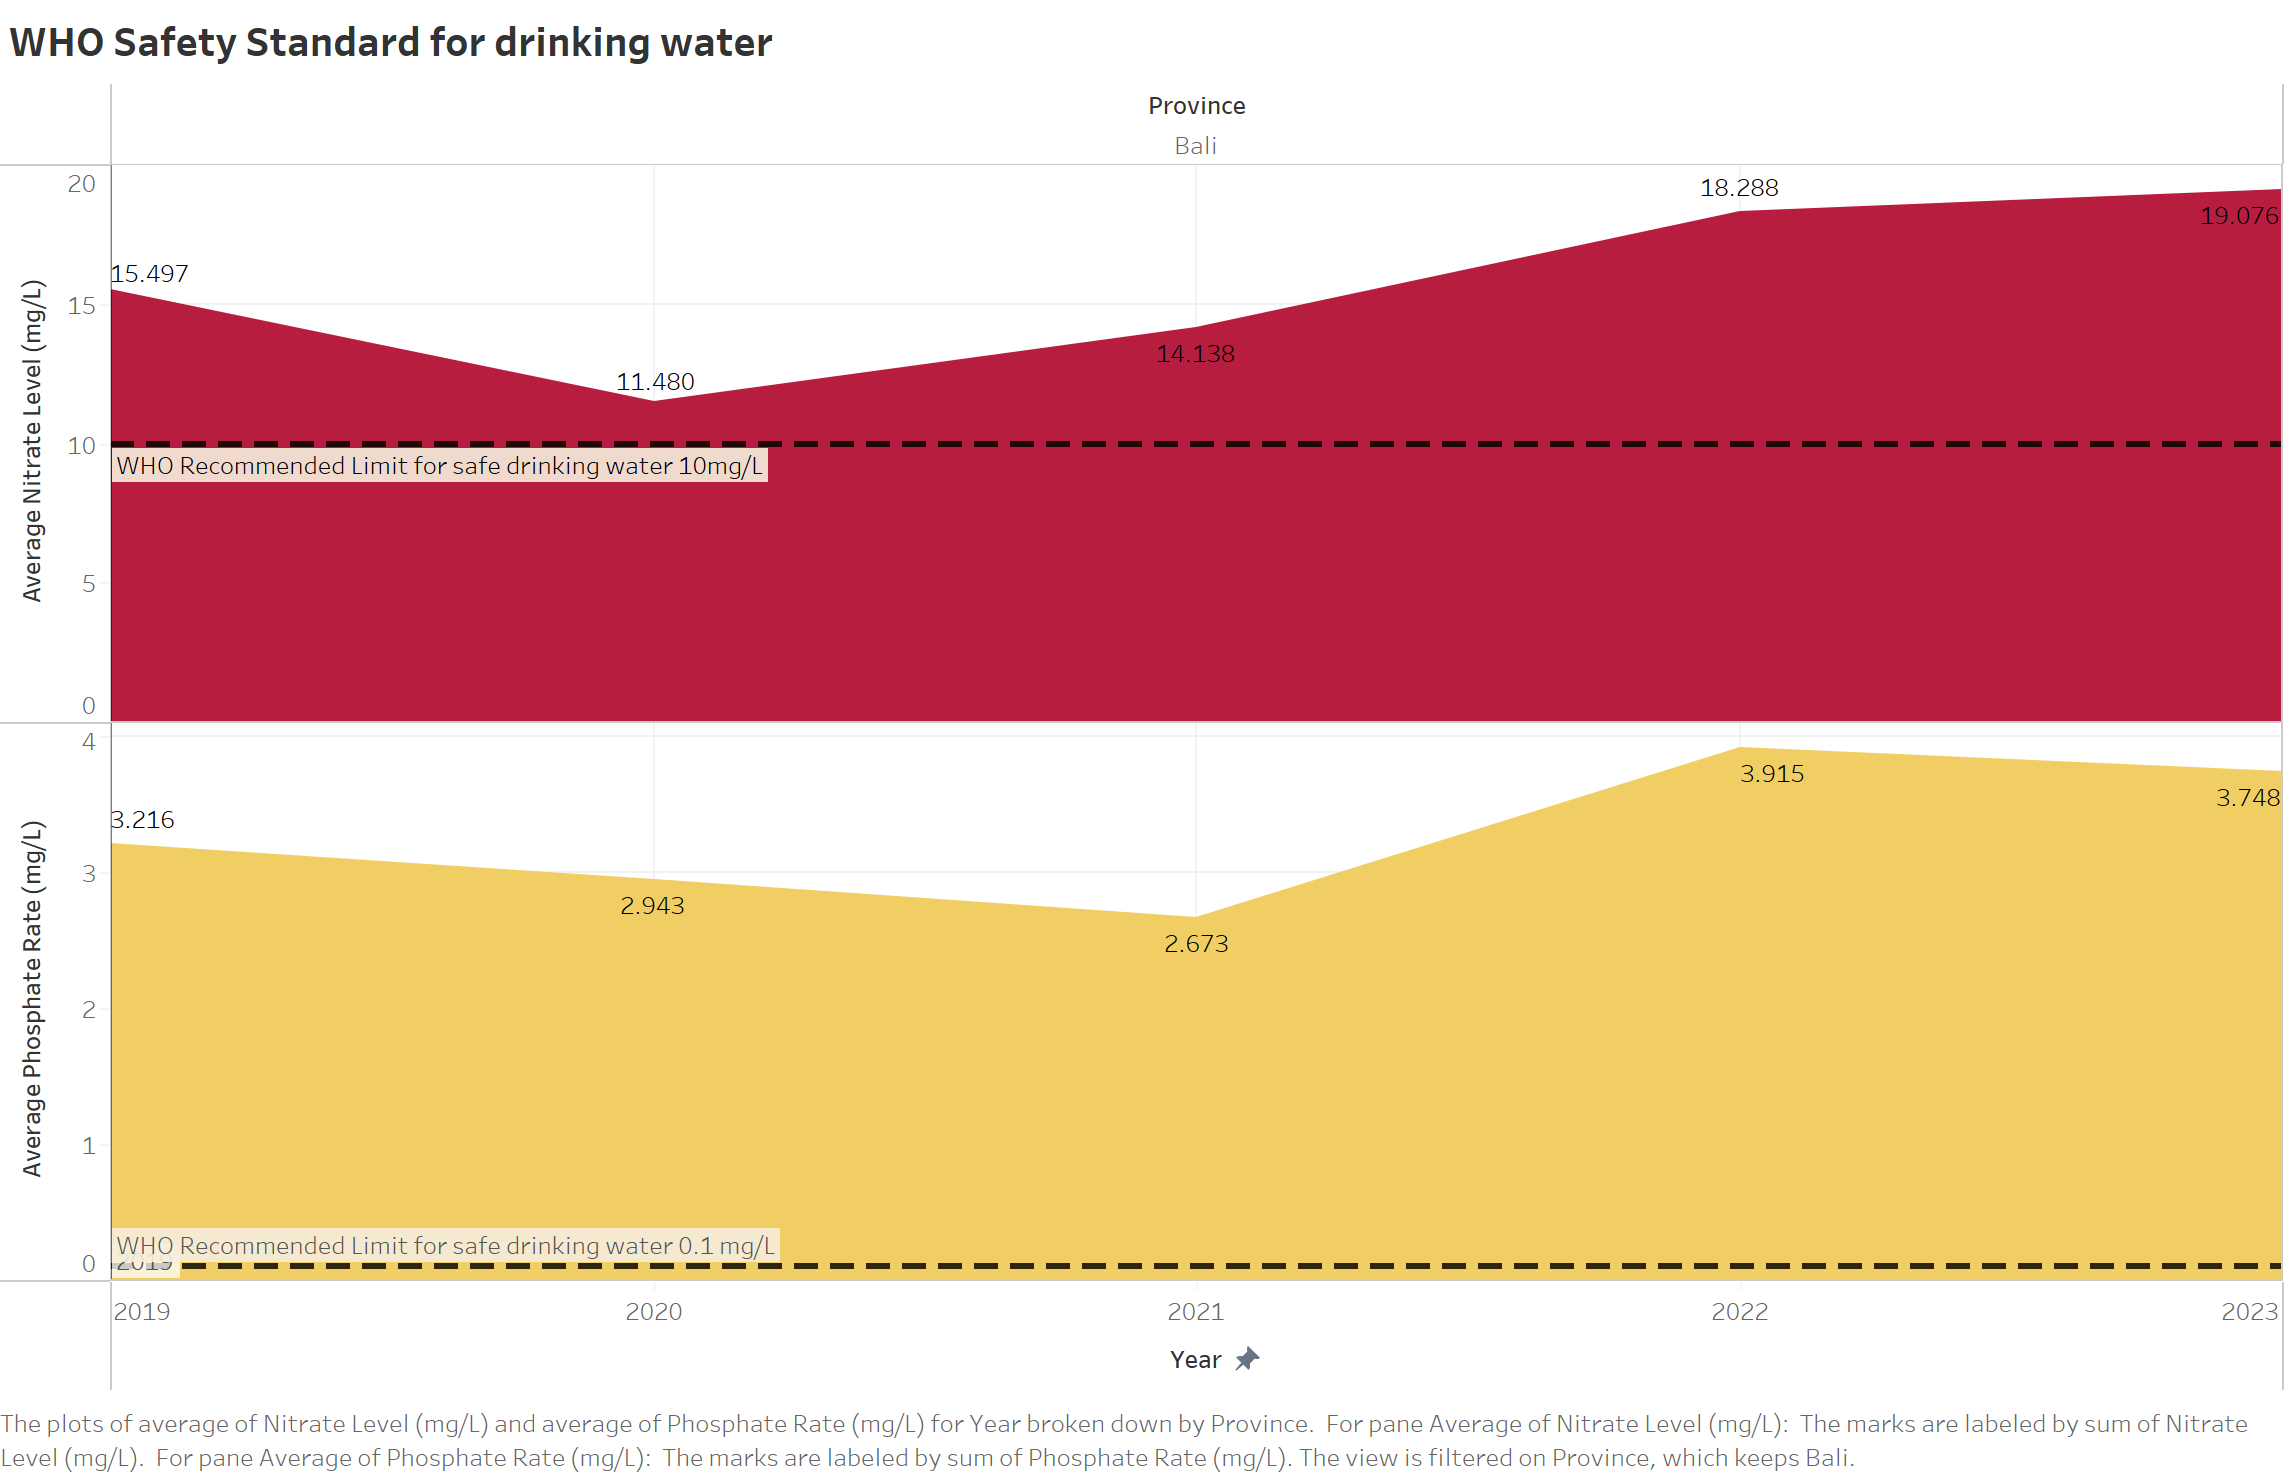

This screenshot's page, from the dashboard's own definition file:
{"tool":"tableau","page":{"name":"Dashboard 1","canvas":[1000,1000],"units":"permille","ordinal":0},"visuals":[{"type":"worksheet","title":"Bali polution","mark":"Area","rows":["Nitrate Level (mg/L)","Phosphate Rate (mg/L)","Salinity (TDS mg/L)","pH Level"],"cols":["Province","Year"],"box":[5.9,10.3,495.1,979.4]},{"type":"worksheet","title":"Bali polution (2)","mark":"Automatic","rows":["BOD (mg/L)","COD (mg/L)","Fecal Coliforms (MPN/100mL)","TSS (mg/L)"],"cols":["Year"],"box":[501,10.3,493.2,979.4]}]}

Visuals, with their boxes on the dashboard's canvas, which has no fixed pixel size, in thousandths of its width and height (x1, y1, x2, y2). These are canvas units, not pixel positions in the 2286x1476 screenshot, which may show the page scaled, cropped or inside an application window:
"Bali polution" worksheet (Area marks): {"x1": 6, "y1": 10, "x2": 501, "y2": 990}
"Bali polution (2)" worksheet: {"x1": 501, "y1": 10, "x2": 994, "y2": 990}
